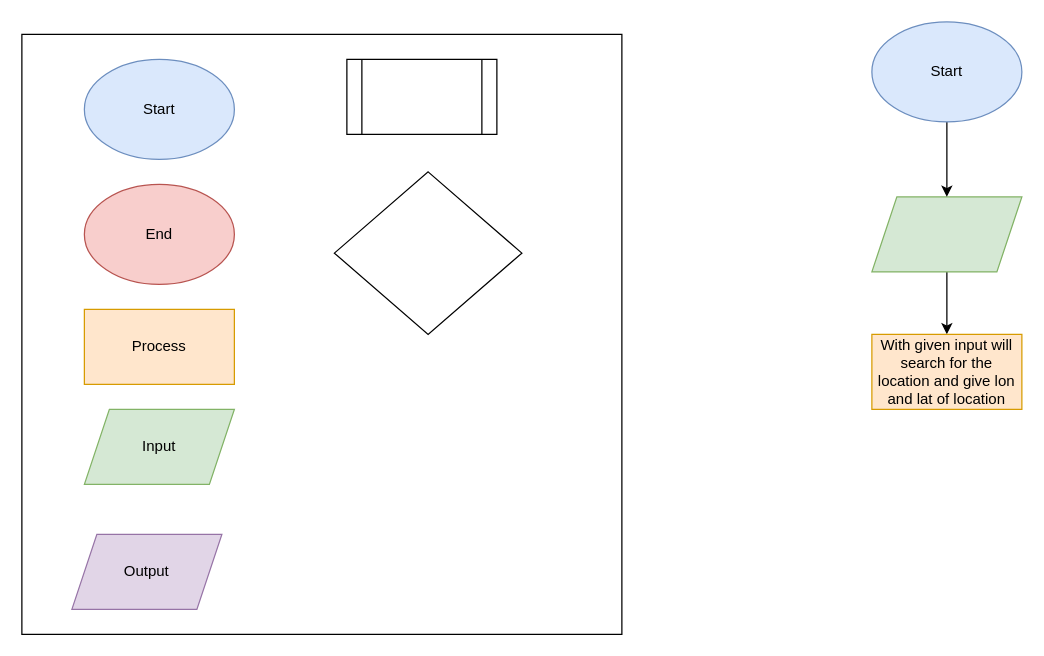
Some shapes in this 1044 by 656 pixel diagram are drawn without their labels. Each missing label, with the centre of its shape:
Decision: (x=427, y=252)
Sub-Process: (x=421, y=96)
User inputs a city presses search button: (x=946, y=234)
